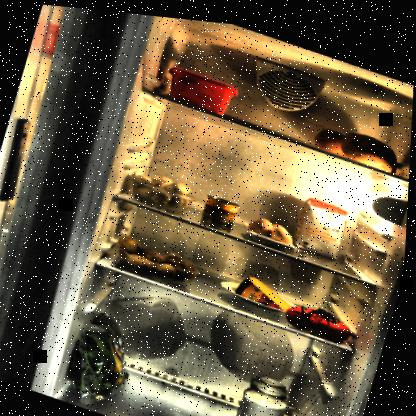butter: (161, 59, 241, 115)
cheese: (236, 267, 308, 311)
corn: (202, 188, 243, 226)
eggs: (249, 208, 300, 243)
mushrooms: (129, 162, 199, 211)
potato: (114, 228, 207, 286)
spinach: (61, 299, 150, 416)
sweet_potato: (309, 110, 407, 168)
tomato: (285, 290, 358, 339)
